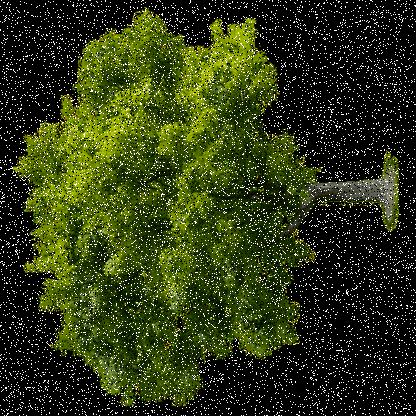Tree: (7, 10, 396, 406)
